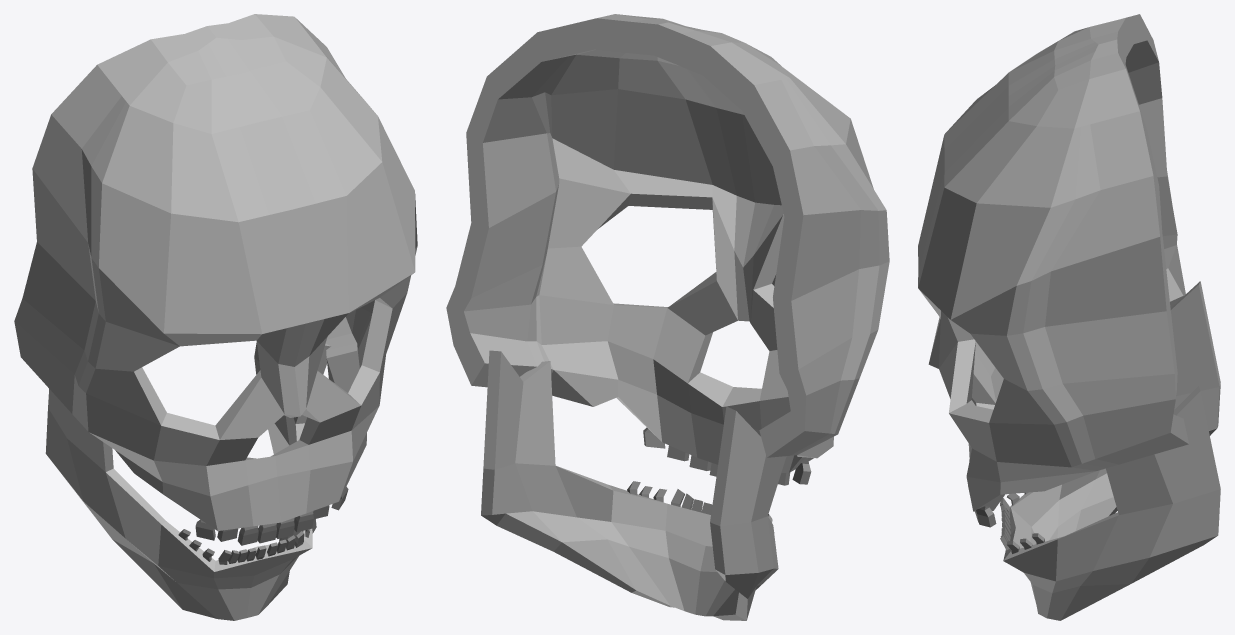
Rendered from skull_type_02.fbx.
3 views of the same model, side by side, from view 1: azimuth 30°, elevation 25°; view 2: azimuth 150°, elevation 25°; view 3: azimuth 270°, elevation 25° (orthographic). The views are drawn at different scales.
Visible parts, largest first — view 1: skull_type_02; view 2: skull_type_02; view 3: skull_type_02.
Boxes of the visible parts, x1,y1,x2,y2 form: skull_type_02: (14,14,417,620); skull_type_02: (446,14,889,620); skull_type_02: (918,14,1220,620).
Bounding box in the file's own units: 9.31 × 15.31 × 7.39.
